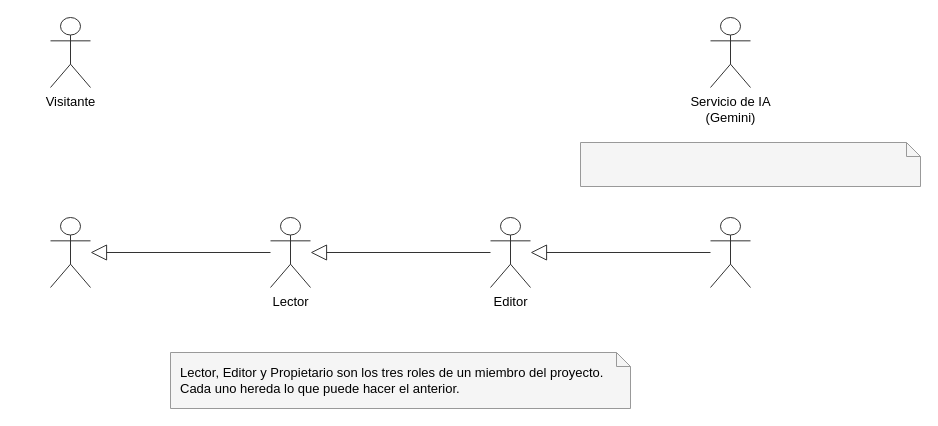
This 938x426 diagram has some shape labels left out. Each missing label, with the centre of its shape:
"Actor secundario: lo invoca el sistema, nunca la persona." belongs at point (750, 164).
"Propietario" belongs at point (730, 252).
"Usuario registrado" belongs at point (70, 252).
